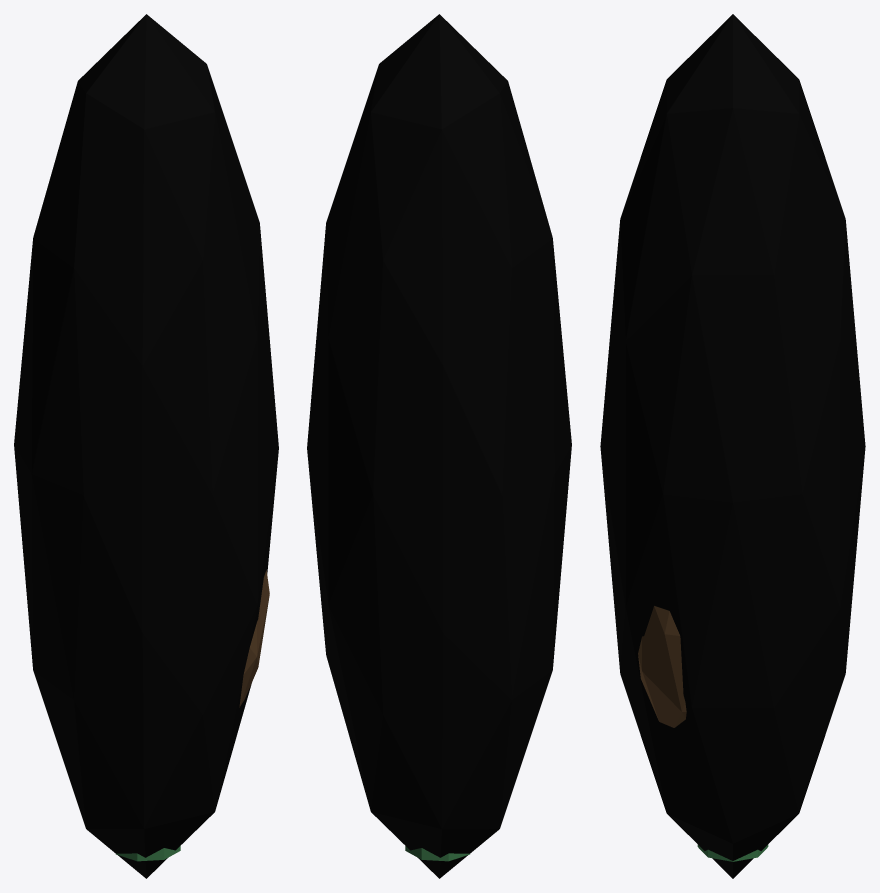
Rendered from M03_Cypress.fbx.
The picture shows the model from 3 angles, left to right: view 1: azimuth 30°, elevation 25°; view 2: azimuth 150°, elevation 25°; view 3: azimuth 270°, elevation 25°; orthographic projection.
Parts seen in each view (by area): view 1: M03_Cypress; view 2: M03_Cypress; view 3: M03_Cypress.
Boxes of the visible parts, x1=… form: M03_Cypress: x1=14, y1=14, x2=278, y2=878; M03_Cypress: x1=307, y1=14, x2=571, y2=878; M03_Cypress: x1=600, y1=14, x2=865, y2=878.
Size of the model in its own units: 3 by 10.8 by 3.
1 material, 1 textured.
